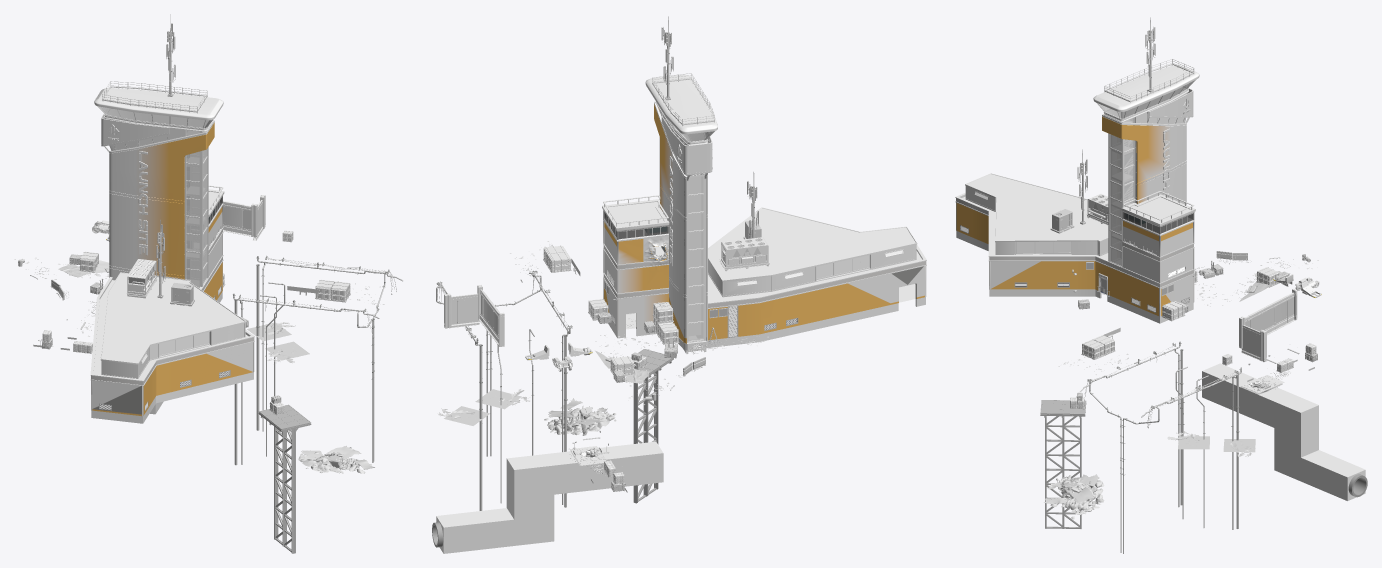
File: cell_166_107.fbx
The picture shows the model from 3 angles, left to right: view 1: azimuth 30°, elevation 25°; view 2: azimuth 150°, elevation 25°; view 3: azimuth 270°, elevation 25°; orthographic projection. The views are drawn at different scales.
Parts seen in each view (by area): view 1: SM_H_Building_FutureTech_WatchTower_01a.mo, SM_H_Building_FutureTech_WatchTower_01c.mo, SM_I_RoadFacility_Ground_L_10_RuinF_03.mo, SM_H_Building_FutureTech_Platform_03B.mo, SM_H_Building_FutureTech_WatchTower_01d_Glass.mo, SM_H_Building_FutureTech_WatchTower_01c_Glass.mo, SM_H_Building_FutureTech_WatchTower_01d.mo, SM_H_FutureTech_Electrical_BigConditioners_01.mo.023, SM_H_Building_FutureTech_WatchTower_01a_Glass.mo, SM_M_Props_Industrial_Debris_03.mo.006, SM_Branding_LocationSign_01O.mo.001, SM_H_Industrial_ISS_Rocket_02H_Ruin.mo.001 (+4 smaller); view 2: SM_H_Building_FutureTech_WatchTower_01a.mo, SM_I_RoadFacility_Ground_L_04I.mo, SM_H_Building_FutureTech_WatchTower_01c.mo, SM_I_RoadFacility_Ground_L_10_RuinF_03.mo, SM_H_Building_FutureTech_WatchTower_01d_Glass.mo.002, SM_H_Building_FutureTech_Platform_03B.mo, SM_H_Building_FutureTech_WatchTower_01e.mo, SM_H_FutureTech_Electrical_BigConditioners_01.mo.023, SM_H_Building_FutureTech_WatchTower_01a_Glass.mo, SM_M_Props_Industrial_Debris_03.mo.006, SM_H_Fence_SoundproofWall_02.mo.033, SM_H_Fence_SoundproofWall_03c.mo.007; view 3: SM_H_Building_FutureTech_WatchTower_01a.mo, SM_H_Building_FutureTech_WatchTower_01c.mo, SM_I_RoadFacility_Ground_L_04I.mo, SM_I_RoadFacility_Ground_L_10_RuinF_03.mo, SM_H_Building_FutureTech_Platform_03B.mo, SM_H_Building_FutureTech_WatchTower_01d_Glass.mo.001, SM_H_Building_FutureTech_WatchTower_01a_Glass.mo, SM_M_Props_Industrial_Debris_03.mo.006, SM_H_Building_FutureTech_WatchTower_01c_Glass.mo, SM_H_Building_FutureTech_WatchTower_01d.mo, SM_H_Fence_SoundproofWall_03c_Glass.mo.007, SM_H_Fence_SoundproofWall_03c.mo.007 (+4 smaller).
Boxes of the visible parts, x1,y1,x2,y2 form: SM_H_Building_FutureTech_WatchTower_01a.mo: [90, 185, 254, 423]; SM_H_Building_FutureTech_WatchTower_01c.mo: [94, 88, 223, 288]; SM_I_RoadFacility_Ground_L_10_RuinF_03.mo: [233, 256, 403, 465]; SM_H_Building_FutureTech_Platform_03B.mo: [258, 404, 311, 553]; SM_H_Building_FutureTech_WatchTower_01d_Glass.mo: [186, 130, 199, 287]; SM_H_Building_FutureTech_WatchTower_01c_Glass.mo: [99, 106, 211, 150]; SM_H_Building_FutureTech_WatchTower_01d.mo: [112, 129, 204, 278]; SM_H_FutureTech_Electrical_BigConditioners_01.mo.023: [126, 259, 157, 298]; SM_H_Building_FutureTech_WatchTower_01a_Glass.mo: [141, 197, 222, 362]; SM_M_Props_Industrial_Debris_03.mo.006: [298, 452, 371, 473]; SM_Branding_LocationSign_01O.mo.001: [138, 151, 147, 255]; SM_H_Industrial_ISS_Rocket_02H_Ruin.mo.001: [301, 446, 374, 473]; SM_H_Building_FutureTech_WatchTower_01a.mo: [602, 195, 926, 347]; SM_I_RoadFacility_Ground_L_04I.mo: [432, 441, 663, 553]; SM_H_Building_FutureTech_WatchTower_01c.mo: [645, 74, 717, 353]; SM_I_RoadFacility_Ground_L_10_RuinF_03.mo: [436, 270, 572, 510]; SM_H_Building_FutureTech_WatchTower_01d_Glass.mo.002: [688, 176, 703, 340]; SM_H_Building_FutureTech_Platform_03B.mo: [631, 349, 673, 503]; SM_H_Building_FutureTech_WatchTower_01e.mo: [689, 177, 700, 335]; SM_H_FutureTech_Electrical_BigConditioners_01.mo.023: [720, 237, 769, 271]; SM_H_Building_FutureTech_WatchTower_01a_Glass.mo: [604, 212, 902, 284]; SM_M_Props_Industrial_Debris_03.mo.006: [544, 408, 616, 435]; SM_H_Fence_SoundproofWall_02.mo.033: [448, 293, 479, 328]; SM_H_Fence_SoundproofWall_03c.mo.007: [478, 289, 504, 346]; SM_H_Building_FutureTech_WatchTower_01a.mo: [955, 173, 1195, 323]; SM_H_Building_FutureTech_WatchTower_01c.mo: [1093, 64, 1199, 267]; SM_I_RoadFacility_Ground_L_04I.mo: [1202, 363, 1367, 500]; SM_I_RoadFacility_Ground_L_10_RuinF_03.mo: [1080, 341, 1241, 553]; SM_H_Building_FutureTech_Platform_03B.mo: [1040, 400, 1086, 528]; SM_H_Building_FutureTech_WatchTower_01d_Glass.mo.001: [1110, 122, 1121, 265]; SM_H_Building_FutureTech_WatchTower_01a_Glass.mo: [975, 192, 1192, 253]; SM_M_Props_Industrial_Debris_03.mo.006: [1050, 475, 1104, 519]; SM_H_Building_FutureTech_WatchTower_01c_Glass.mo: [1098, 81, 1193, 123]; SM_H_Building_FutureTech_WatchTower_01d.mo: [1112, 113, 1181, 240]; SM_H_Fence_SoundproofWall_03c_Glass.mo.007: [1245, 297, 1293, 331]; SM_H_Fence_SoundproofWall_03c.mo.007: [1245, 289, 1297, 334].
Bounding box in the file's own units: 66.78 × 83.63 × 64.72.
